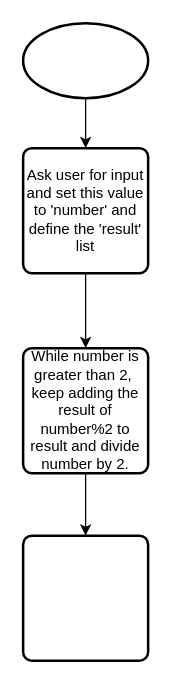
Image size: 170x683. Some labels were removed from this diagram. Each missing label, with the box of its shape:
print result: (21, 534, 149, 661)
Start: (21, 21, 149, 99)
